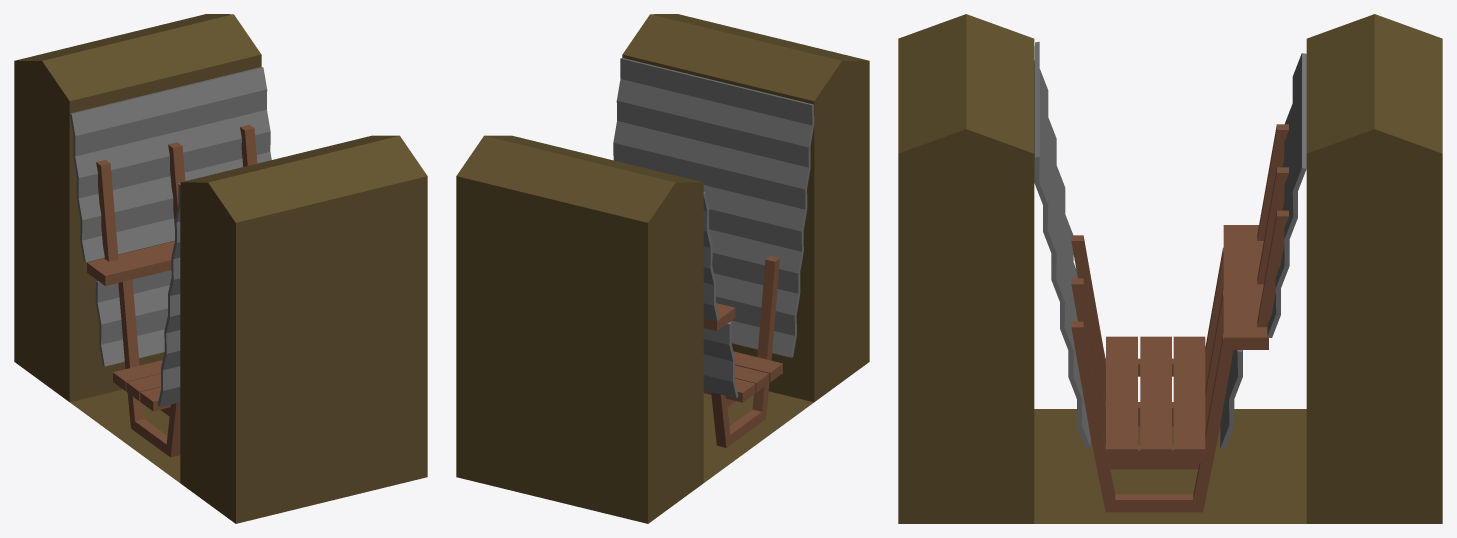
Rendered from Trench Straight.fbx.
3 views of the same model, side by side, from view 1: azimuth 30°, elevation 25°; view 2: azimuth 150°, elevation 25°; view 3: azimuth 270°, elevation 25° (orthographic). The views are drawn at different scales.
Visible parts, largest first — view 1: Trench Dirt Straight, Trench Straight; view 2: Trench Dirt Straight, Trench Straight; view 3: Trench Dirt Straight, Trench Straight.
Boxes of the visible parts, box(x1,y1,x2,y2) form: Trench Dirt Straight: box(14, 14, 427, 523); Trench Straight: box(70, 67, 271, 457); Trench Dirt Straight: box(456, 14, 869, 523); Trench Straight: box(613, 58, 814, 447); Trench Dirt Straight: box(898, 14, 1442, 523); Trench Straight: box(1034, 41, 1306, 512).
Size of the model in its own units: 1000 by 1600 by 2000.
